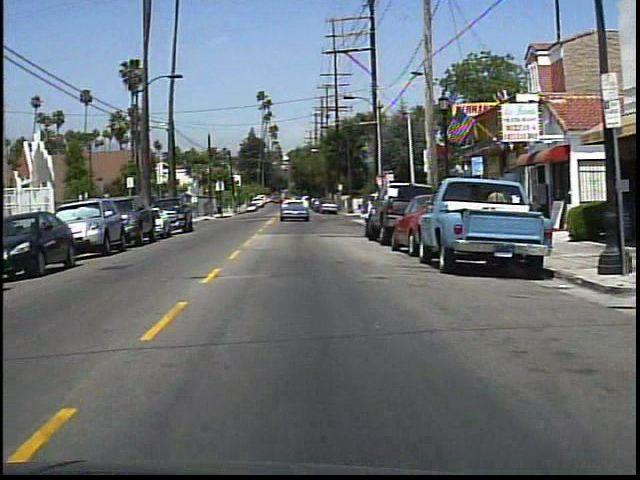person: (487, 183, 512, 234)
